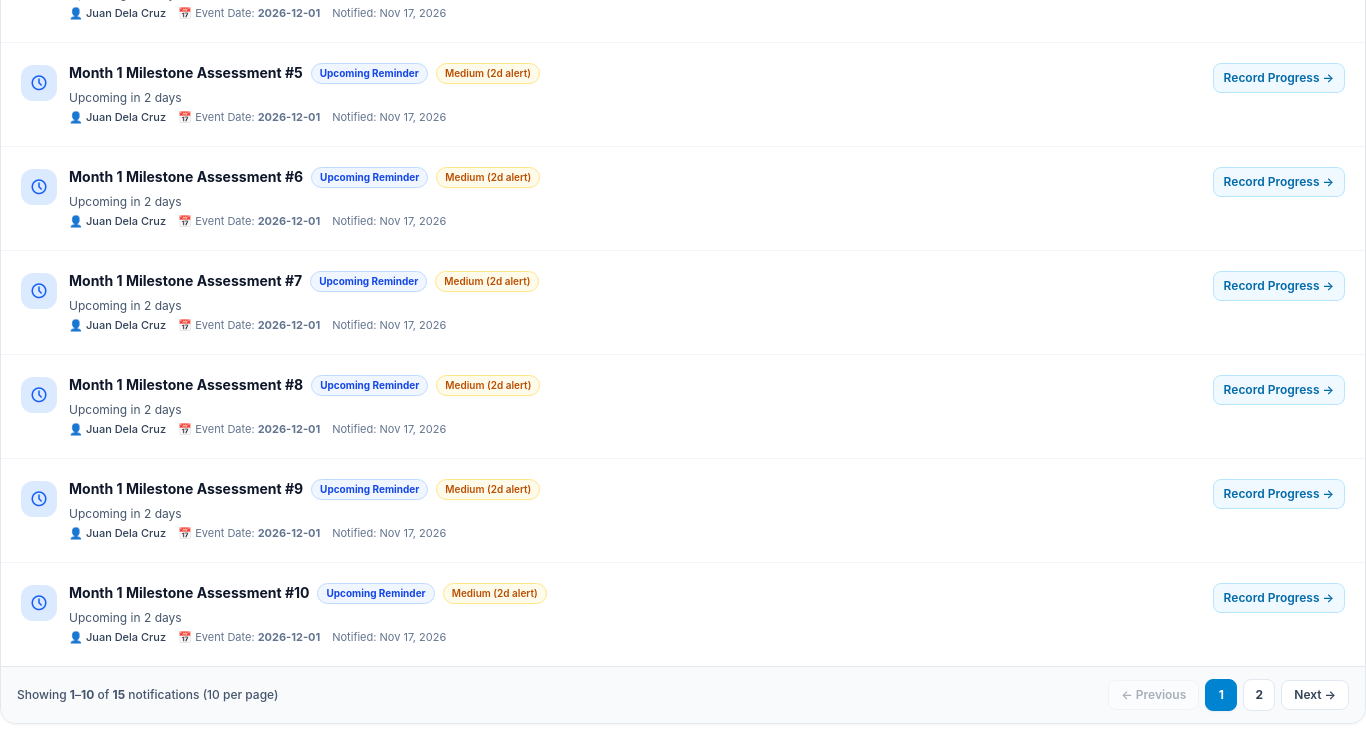
NotificationsPage (Issue #311) › filters by status and priority while resetting to page 1
This screenshot has width=1366, height=755.
(page scrolled)
Advance to page 2 first
Click the button "Next →". click: [1315, 694]
box: [1281,680,1349,710]
(page scrolled)
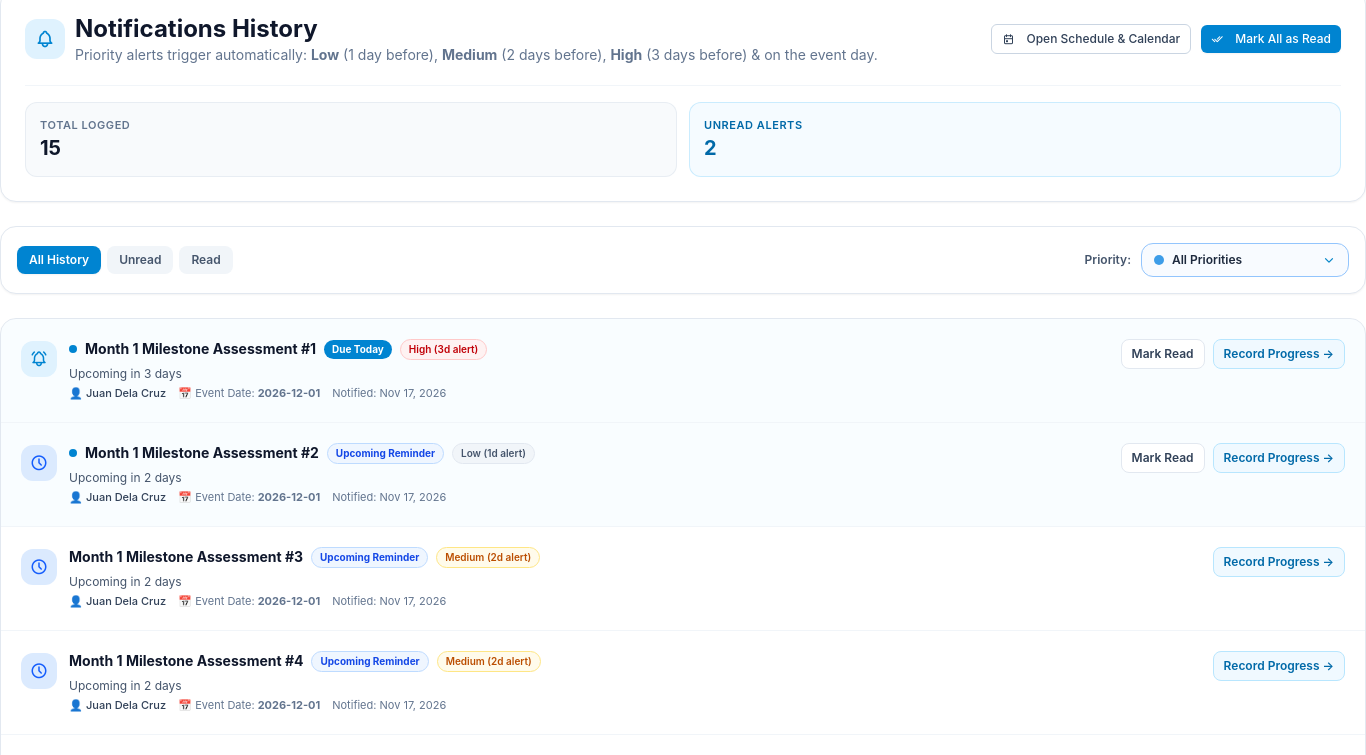
Click the button "Unread". click: [140, 260]
box: [107,246,174,274]
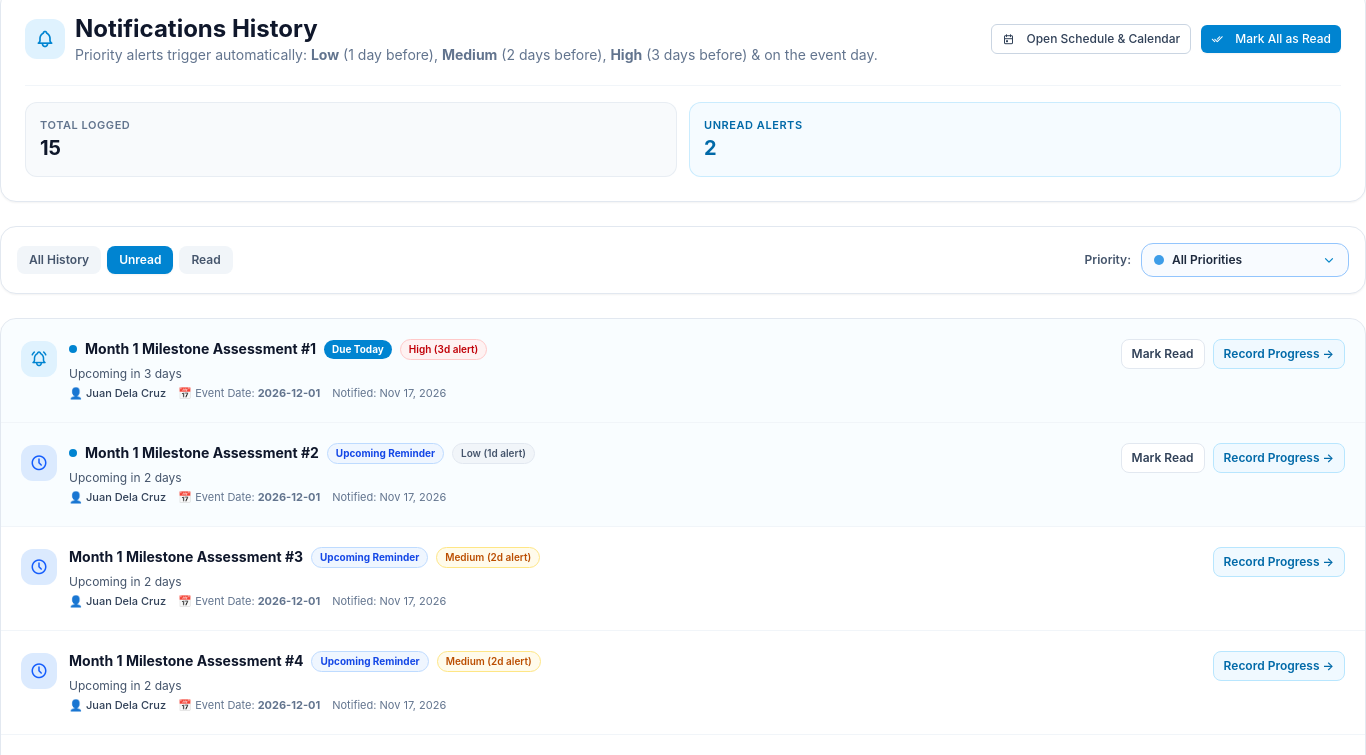
Open custom animated priority dropdown and select High priority
Click the button with test id "notif-priority-trigger". click: [1245, 260]
box: [1141,242,1349,276]
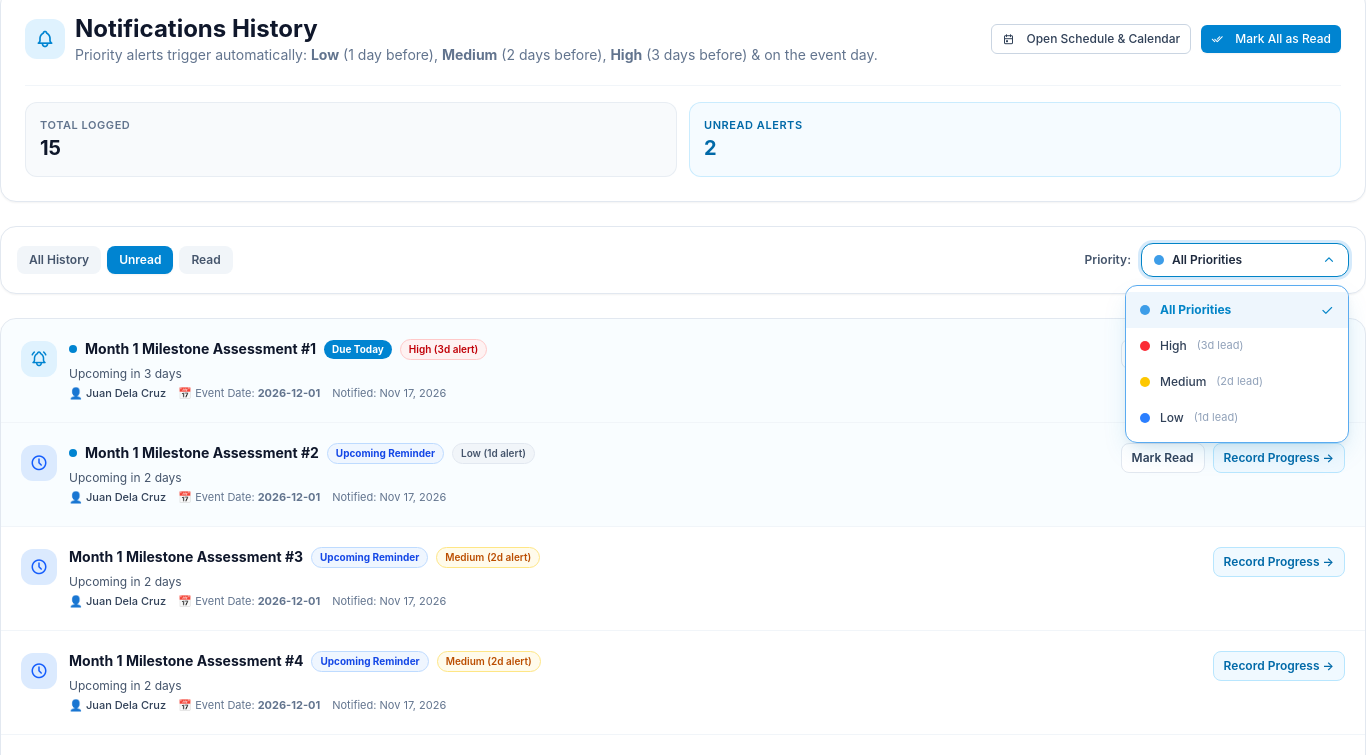
Expected: the list with test id "notif-priority-menu" is shown, [1125,284,1349,442]
Click the option with test id "notif-priority-option-high". click: [1237, 346]
box: [1126,328,1348,364]
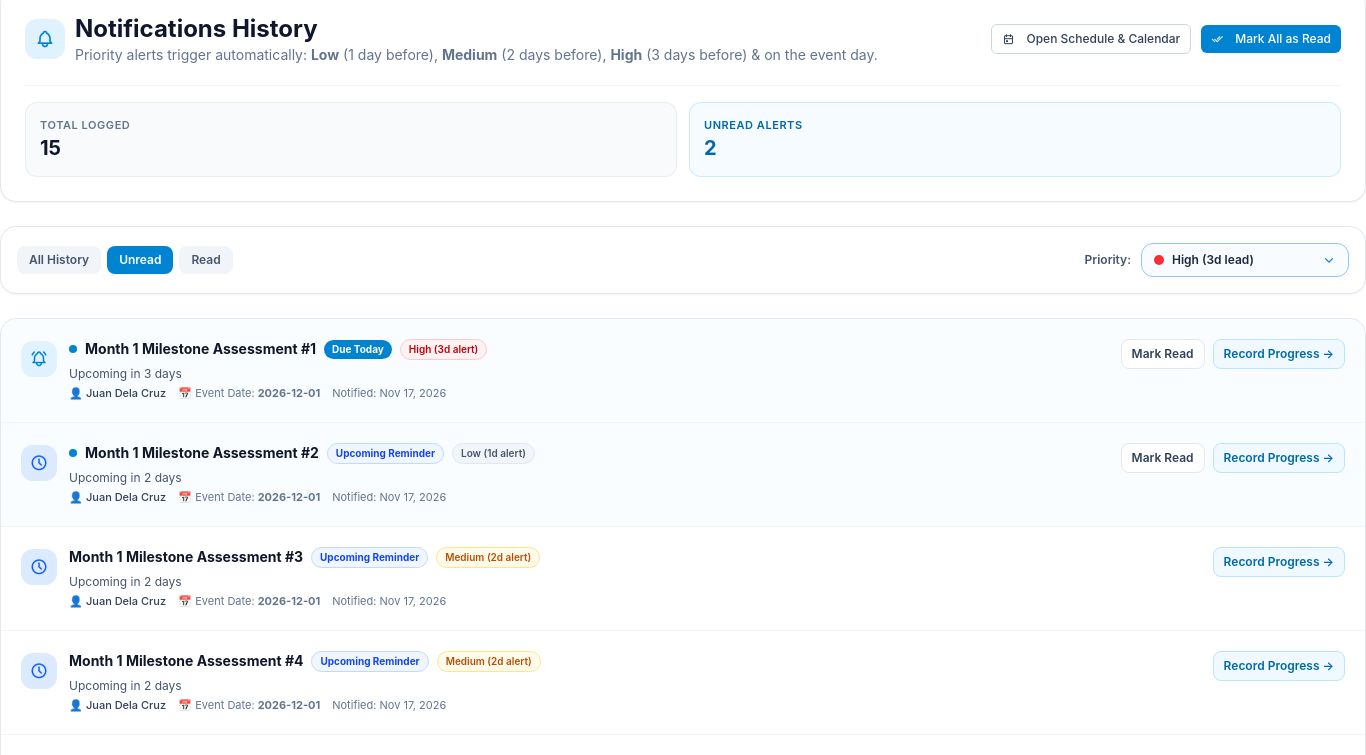
Expected: the list with test id "notif-priority-menu" is gone
